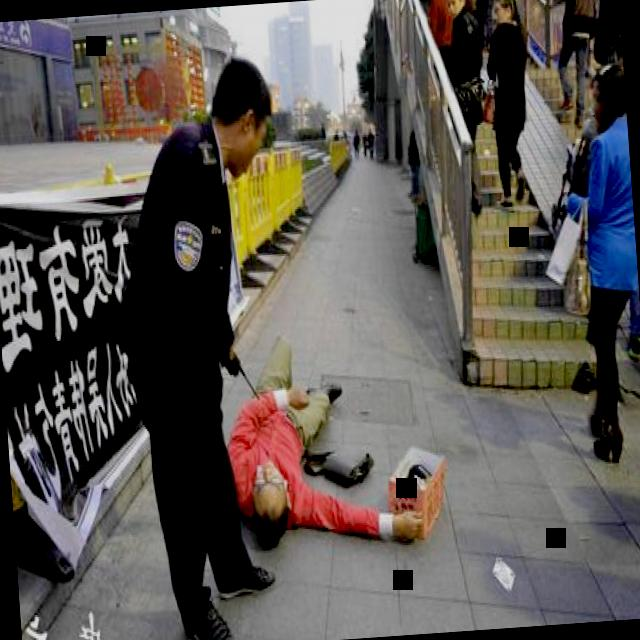Fall-Detected: (199, 311, 465, 577)
